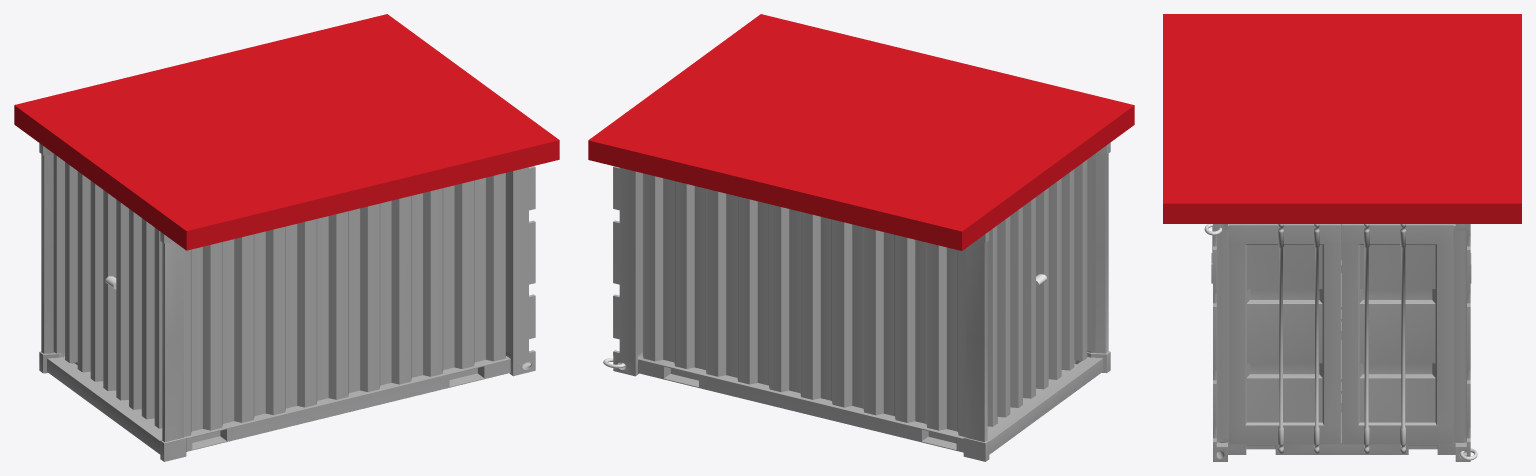
The model's file is Container_smal.fbx.
3 renders of one model, left to right at view 1: azimuth 30°, elevation 25°; view 2: azimuth 150°, elevation 25°; view 3: azimuth 270°, elevation 25°, orthographic. The views are drawn at different scales.
Parts seen in each view (by area): view 1: Cube.079, Plane.046, Plane.047, Cube.073; view 2: Cube.079, Plane.046, Plane.047, Cube.073; view 3: Cube.079, Plane.048, Cube.073, Cylinder.236, Plane.046.
Part boxes in pixels (x1=…): Cube.079: x1=14, y1=14, x2=559, y2=250; Plane.046: x1=47, y1=173, x2=510, y2=454; Plane.047: x1=53, y1=154, x2=162, y2=428; Cube.073: x1=39, y1=143, x2=535, y2=461; Cube.079: x1=588, y1=14, x2=1134, y2=250; Plane.046: x1=638, y1=173, x2=1102, y2=454; Plane.047: x1=987, y1=154, x2=1095, y2=426; Cube.073: x1=613, y1=142, x2=1110, y2=461; Cube.079: x1=1163, y1=14, x2=1521, y2=223; Plane.048: x1=1229, y1=224, x2=1453, y2=444; Cube.073: x1=1211, y1=224, x2=1471, y2=461; Cylinder.236: x1=1278, y1=224, x2=1405, y2=453; Plane.046: x1=1228, y1=260, x2=1455, y2=454.
Bounding box in the file's own units: 577 × 358 × 450.
